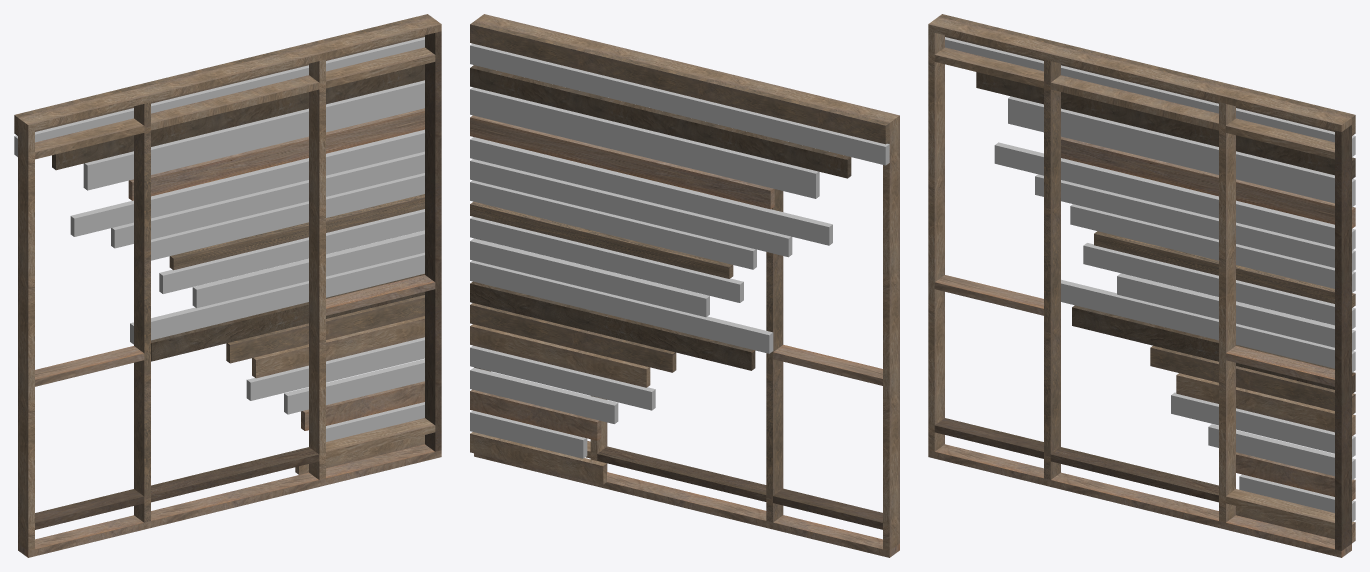
Rendered from WallPeiceDestroyA.fbx.
3 views of the same model, side by side, from view 1: azimuth 30°, elevation 25°; view 2: azimuth 150°, elevation 25°; view 3: azimuth 330°, elevation 25° (orthographic).
Parts seen in each view (by area): view 1: WallPeiceDestroyA; view 2: WallPeiceDestroyA; view 3: WallPeiceDestroyA.
Boxes of the visible parts, x1,y1,x2,y2 form: WallPeiceDestroyA: [14, 14, 441, 557]; WallPeiceDestroyA: [470, 14, 899, 557]; WallPeiceDestroyA: [928, 14, 1355, 557].
Size of the model in its own units: 374 by 374 by 22.
